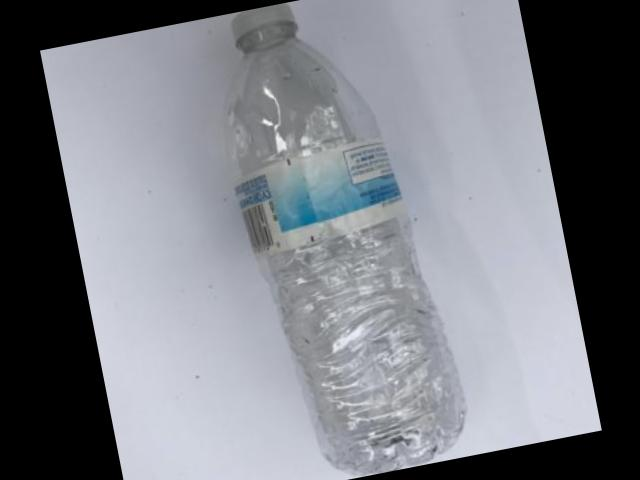plastic: (228, 3, 466, 475)
